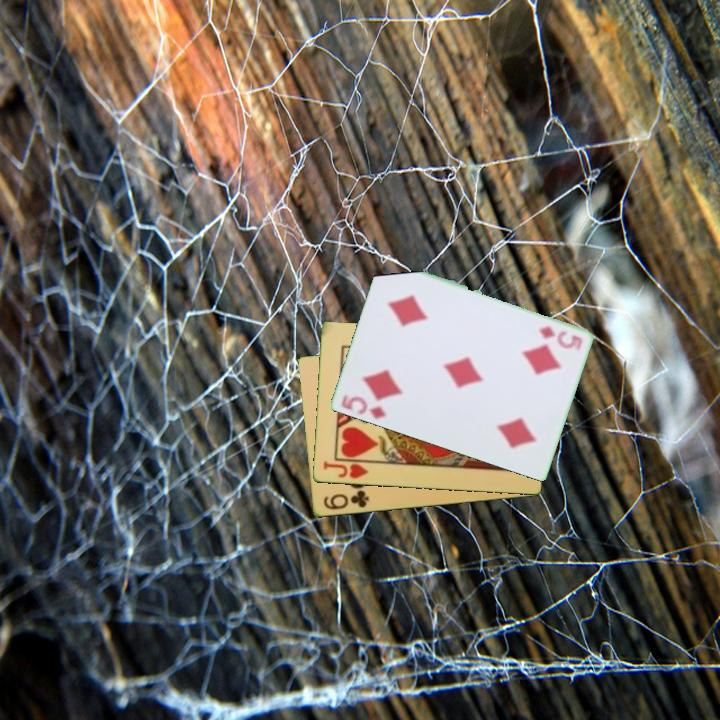5d: (337, 391, 388, 423), (535, 323, 585, 351)
6c: (320, 487, 372, 513)
Jh: (319, 458, 371, 482)
